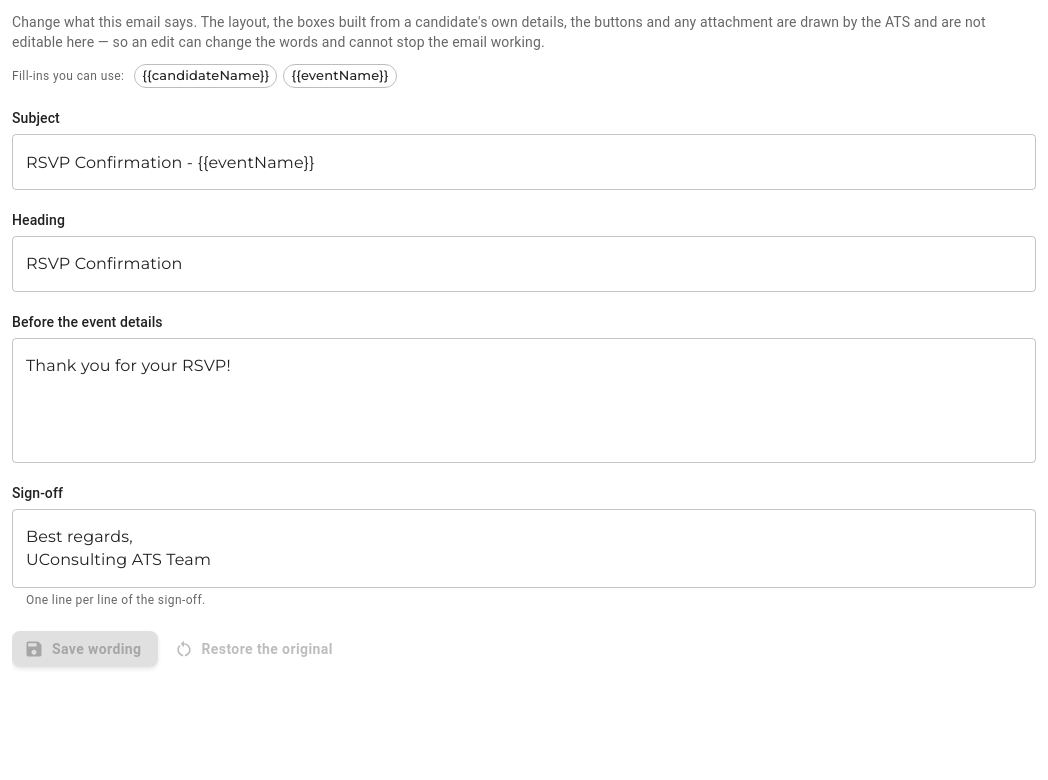
Scenario: EmailTemplateEditor › marks a changed box and offers to undo it, without going near the server
This screenshot has width=1048, height=780.
Clear the field named "Heading": (524, 264) [12, 236, 1036, 292]
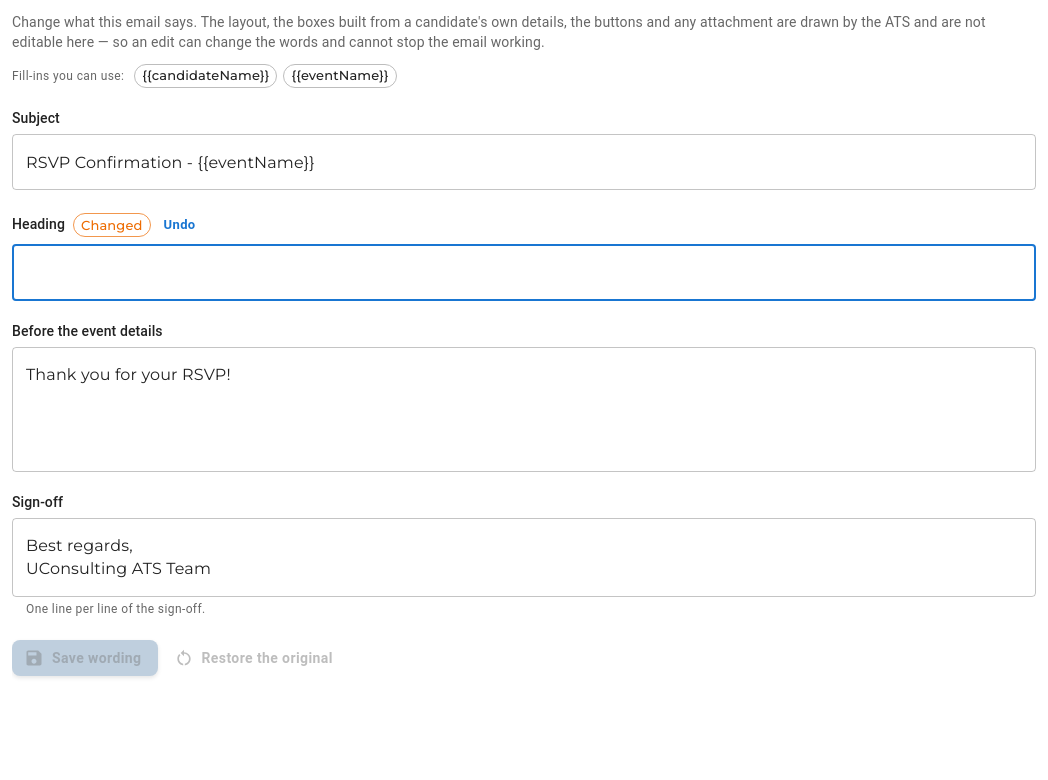
In the field named "Heading": (524, 273) [12, 245, 1036, 301], type "Changed"
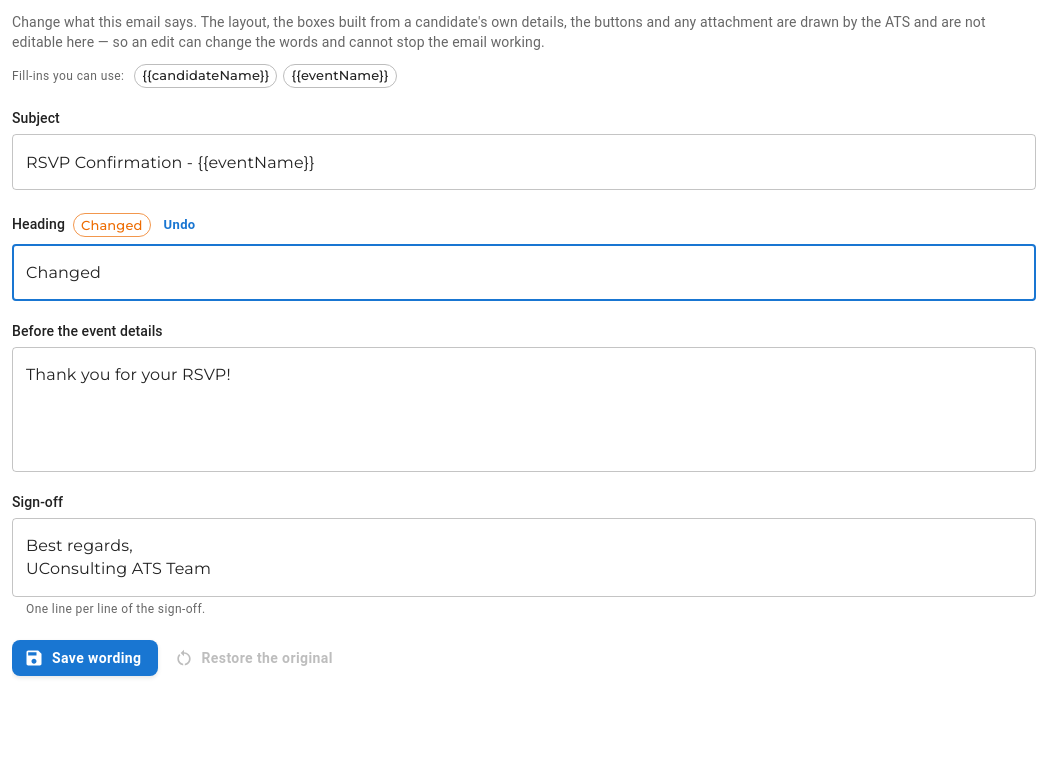
Expected: the text "Changed" is shown, [81, 217, 143, 233]
Click the button "Undo": click(180, 225) [159, 210, 201, 241]
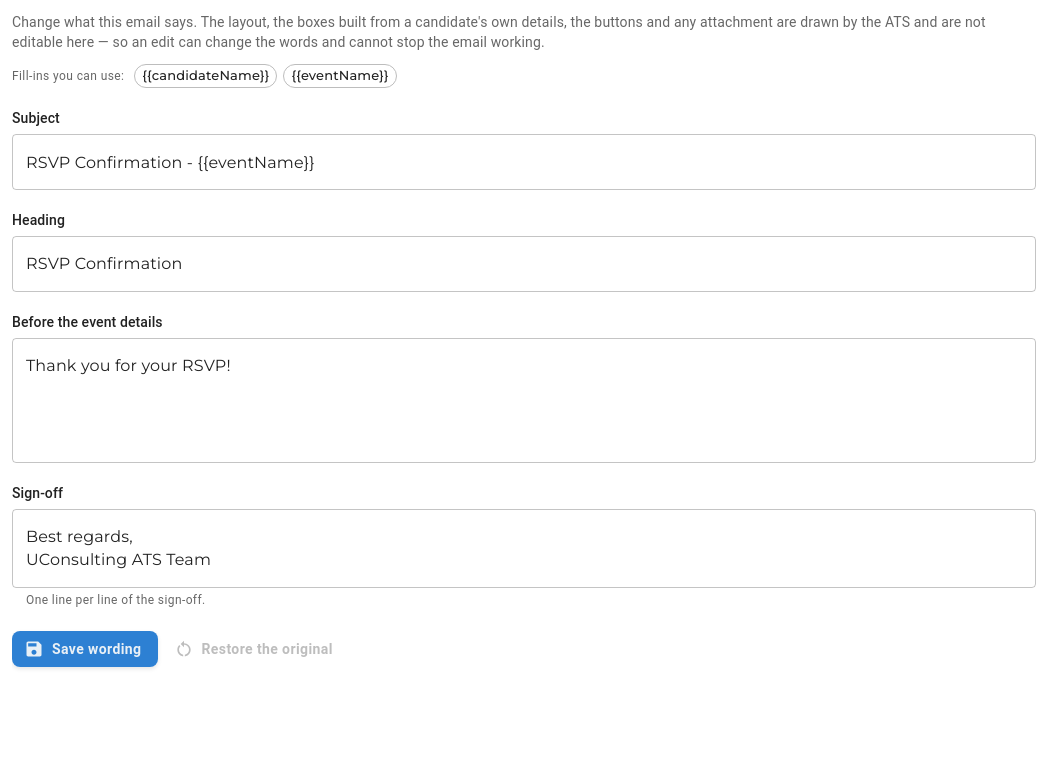
Expected: the field named "Heading" holds "RSVP Confirmation", [12, 236, 1036, 292]
